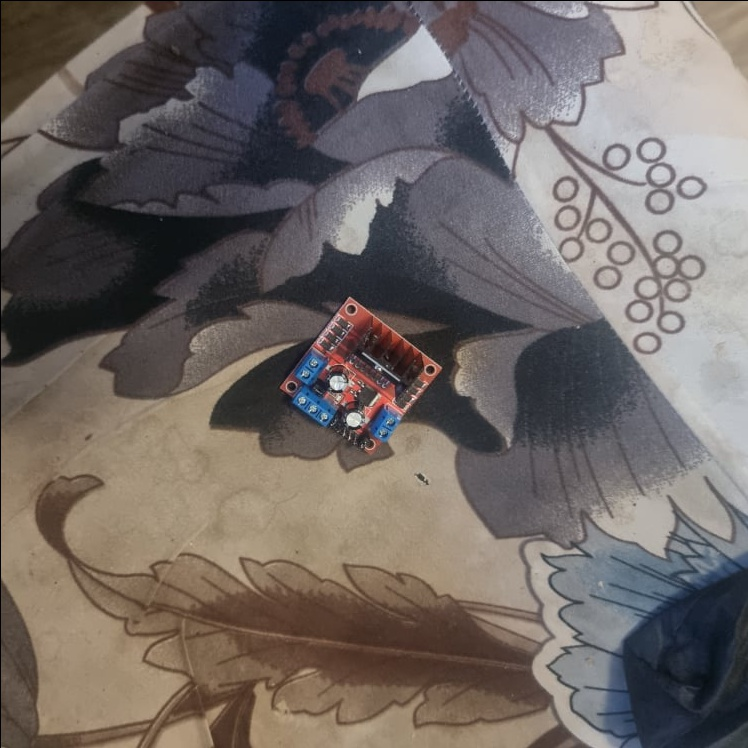MOTOR: (279, 295, 443, 451)
